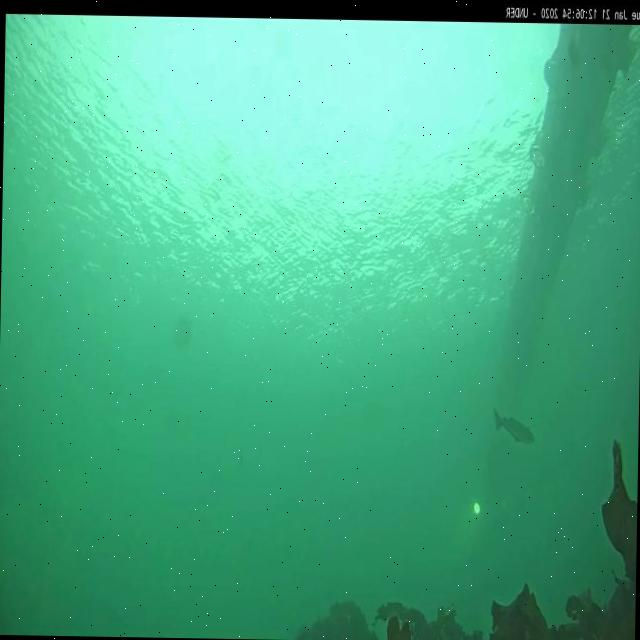fish: (490, 410, 536, 445)
